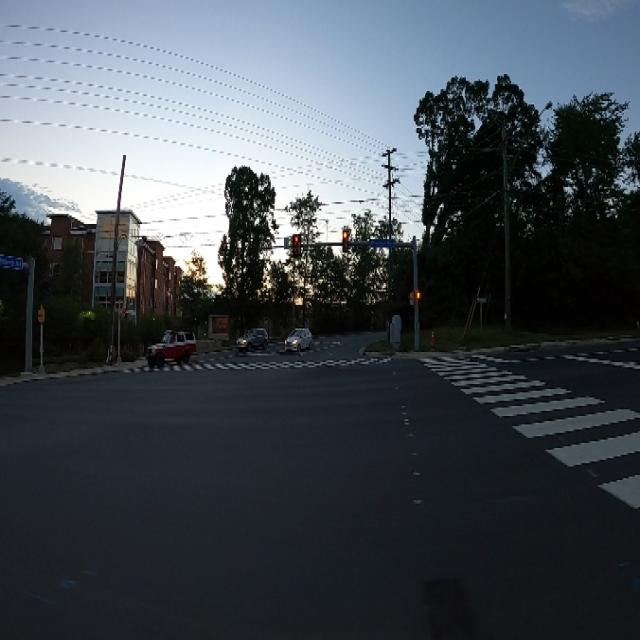cars: (151, 323, 199, 376), (284, 322, 316, 354), (237, 327, 271, 353)
